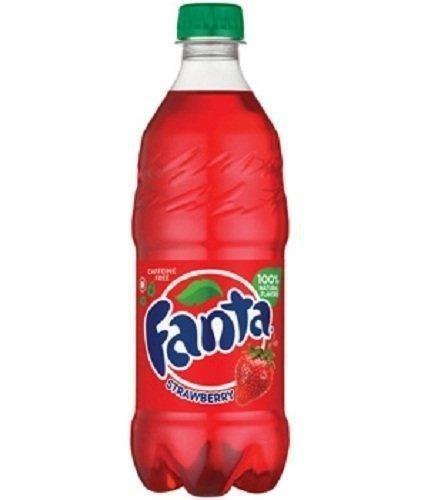bottle-plastic: (128, 0, 293, 499)
